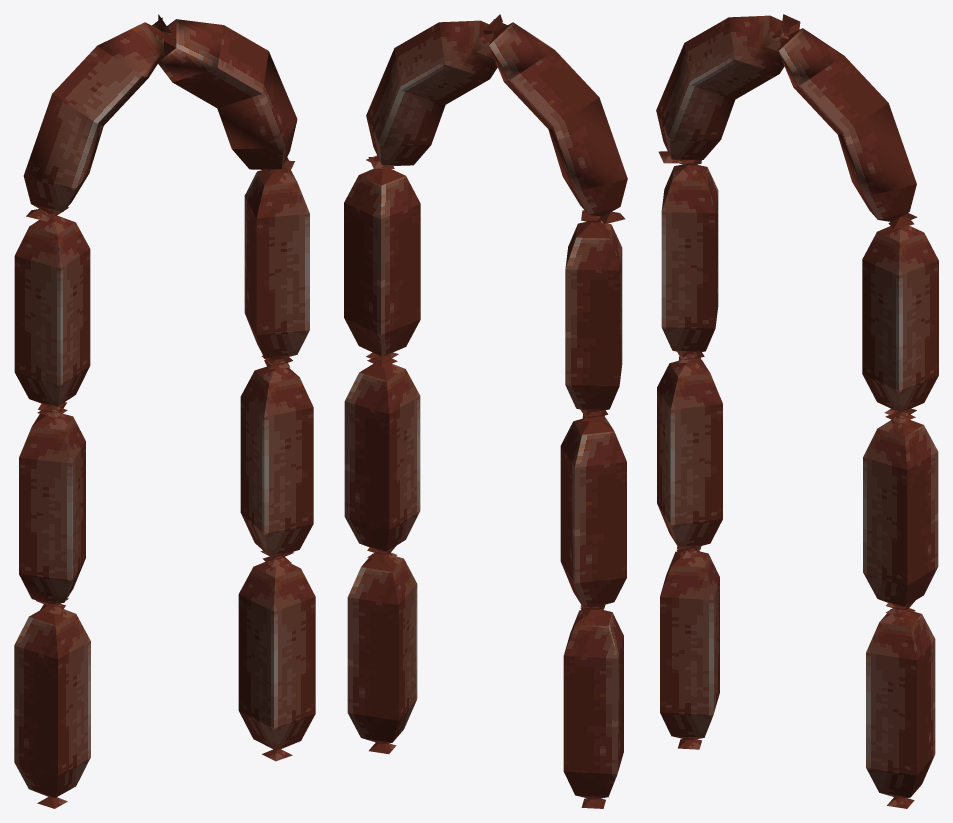
The model's file is sausage_link.glb.
3 views of the same model, side by side, from view 1: azimuth 30°, elevation 25°; view 2: azimuth 150°, elevation 25°; view 3: azimuth 330°, elevation 25° (orthographic).
Visible parts, largest first — view 1: sausage_link; view 2: sausage_link; view 3: sausage_link.
Boxes of the visible parts, x1=… form: sausage_link: x1=14, y1=14, x2=315, y2=808; sausage_link: x1=344, y1=14, x2=627, y2=808; sausage_link: x1=656, y1=14, x2=938, y2=808.
Size of the model in its own units: 0.4149 by 1.08 by 0.1179.
Materials: 1 (1 with a texture image).
